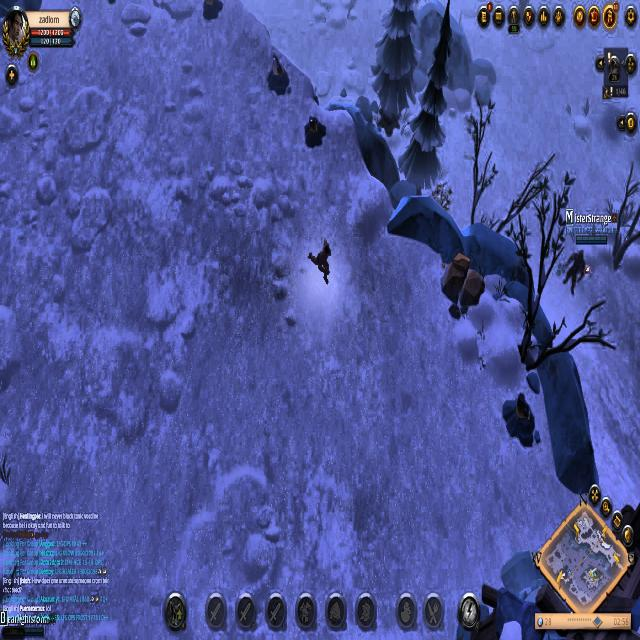copper_ore: (501, 388, 542, 450), (267, 48, 292, 102), (298, 114, 330, 154)
limestone: (440, 249, 488, 314)
